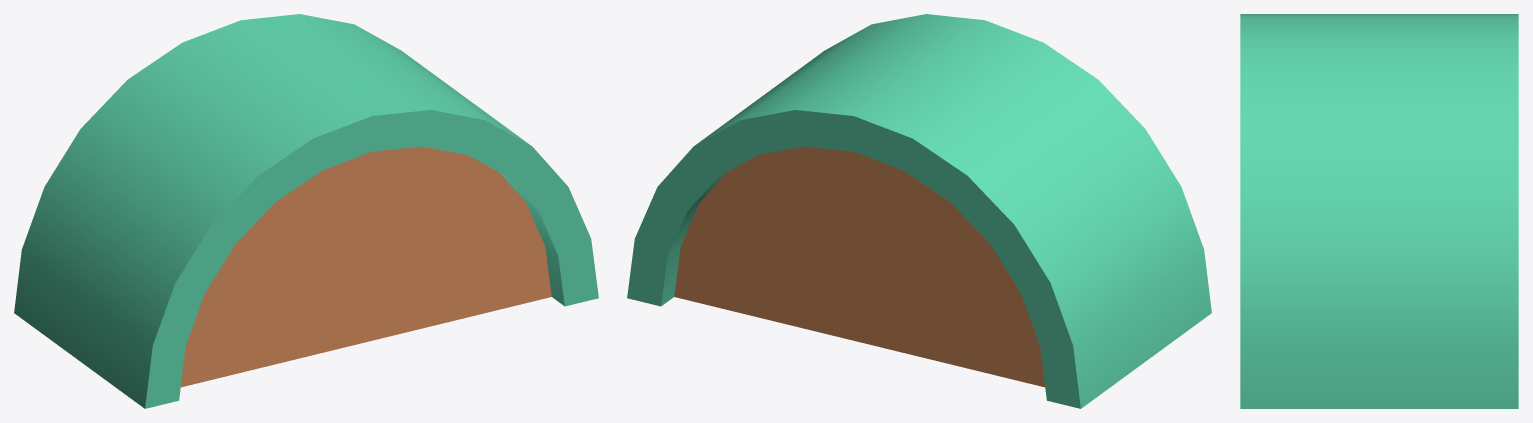
The model's file is blockCurve.fbx.
3 renders of one model, left to right at view 1: azimuth 30°, elevation 25°; view 2: azimuth 150°, elevation 25°; view 3: azimuth 270°, elevation 25°, orthographic. The views are drawn at different scales.
Visible parts, largest first — view 1: blockCurve; view 2: blockCurve; view 3: blockCurve.
Part boxes in pixels (box(x1,y1,x2,y2)): blockCurve: box(14, 14, 598, 408); blockCurve: box(627, 14, 1211, 408); blockCurve: box(1240, 14, 1518, 408).
Size of the model in its own units: 20 by 10 by 10.
